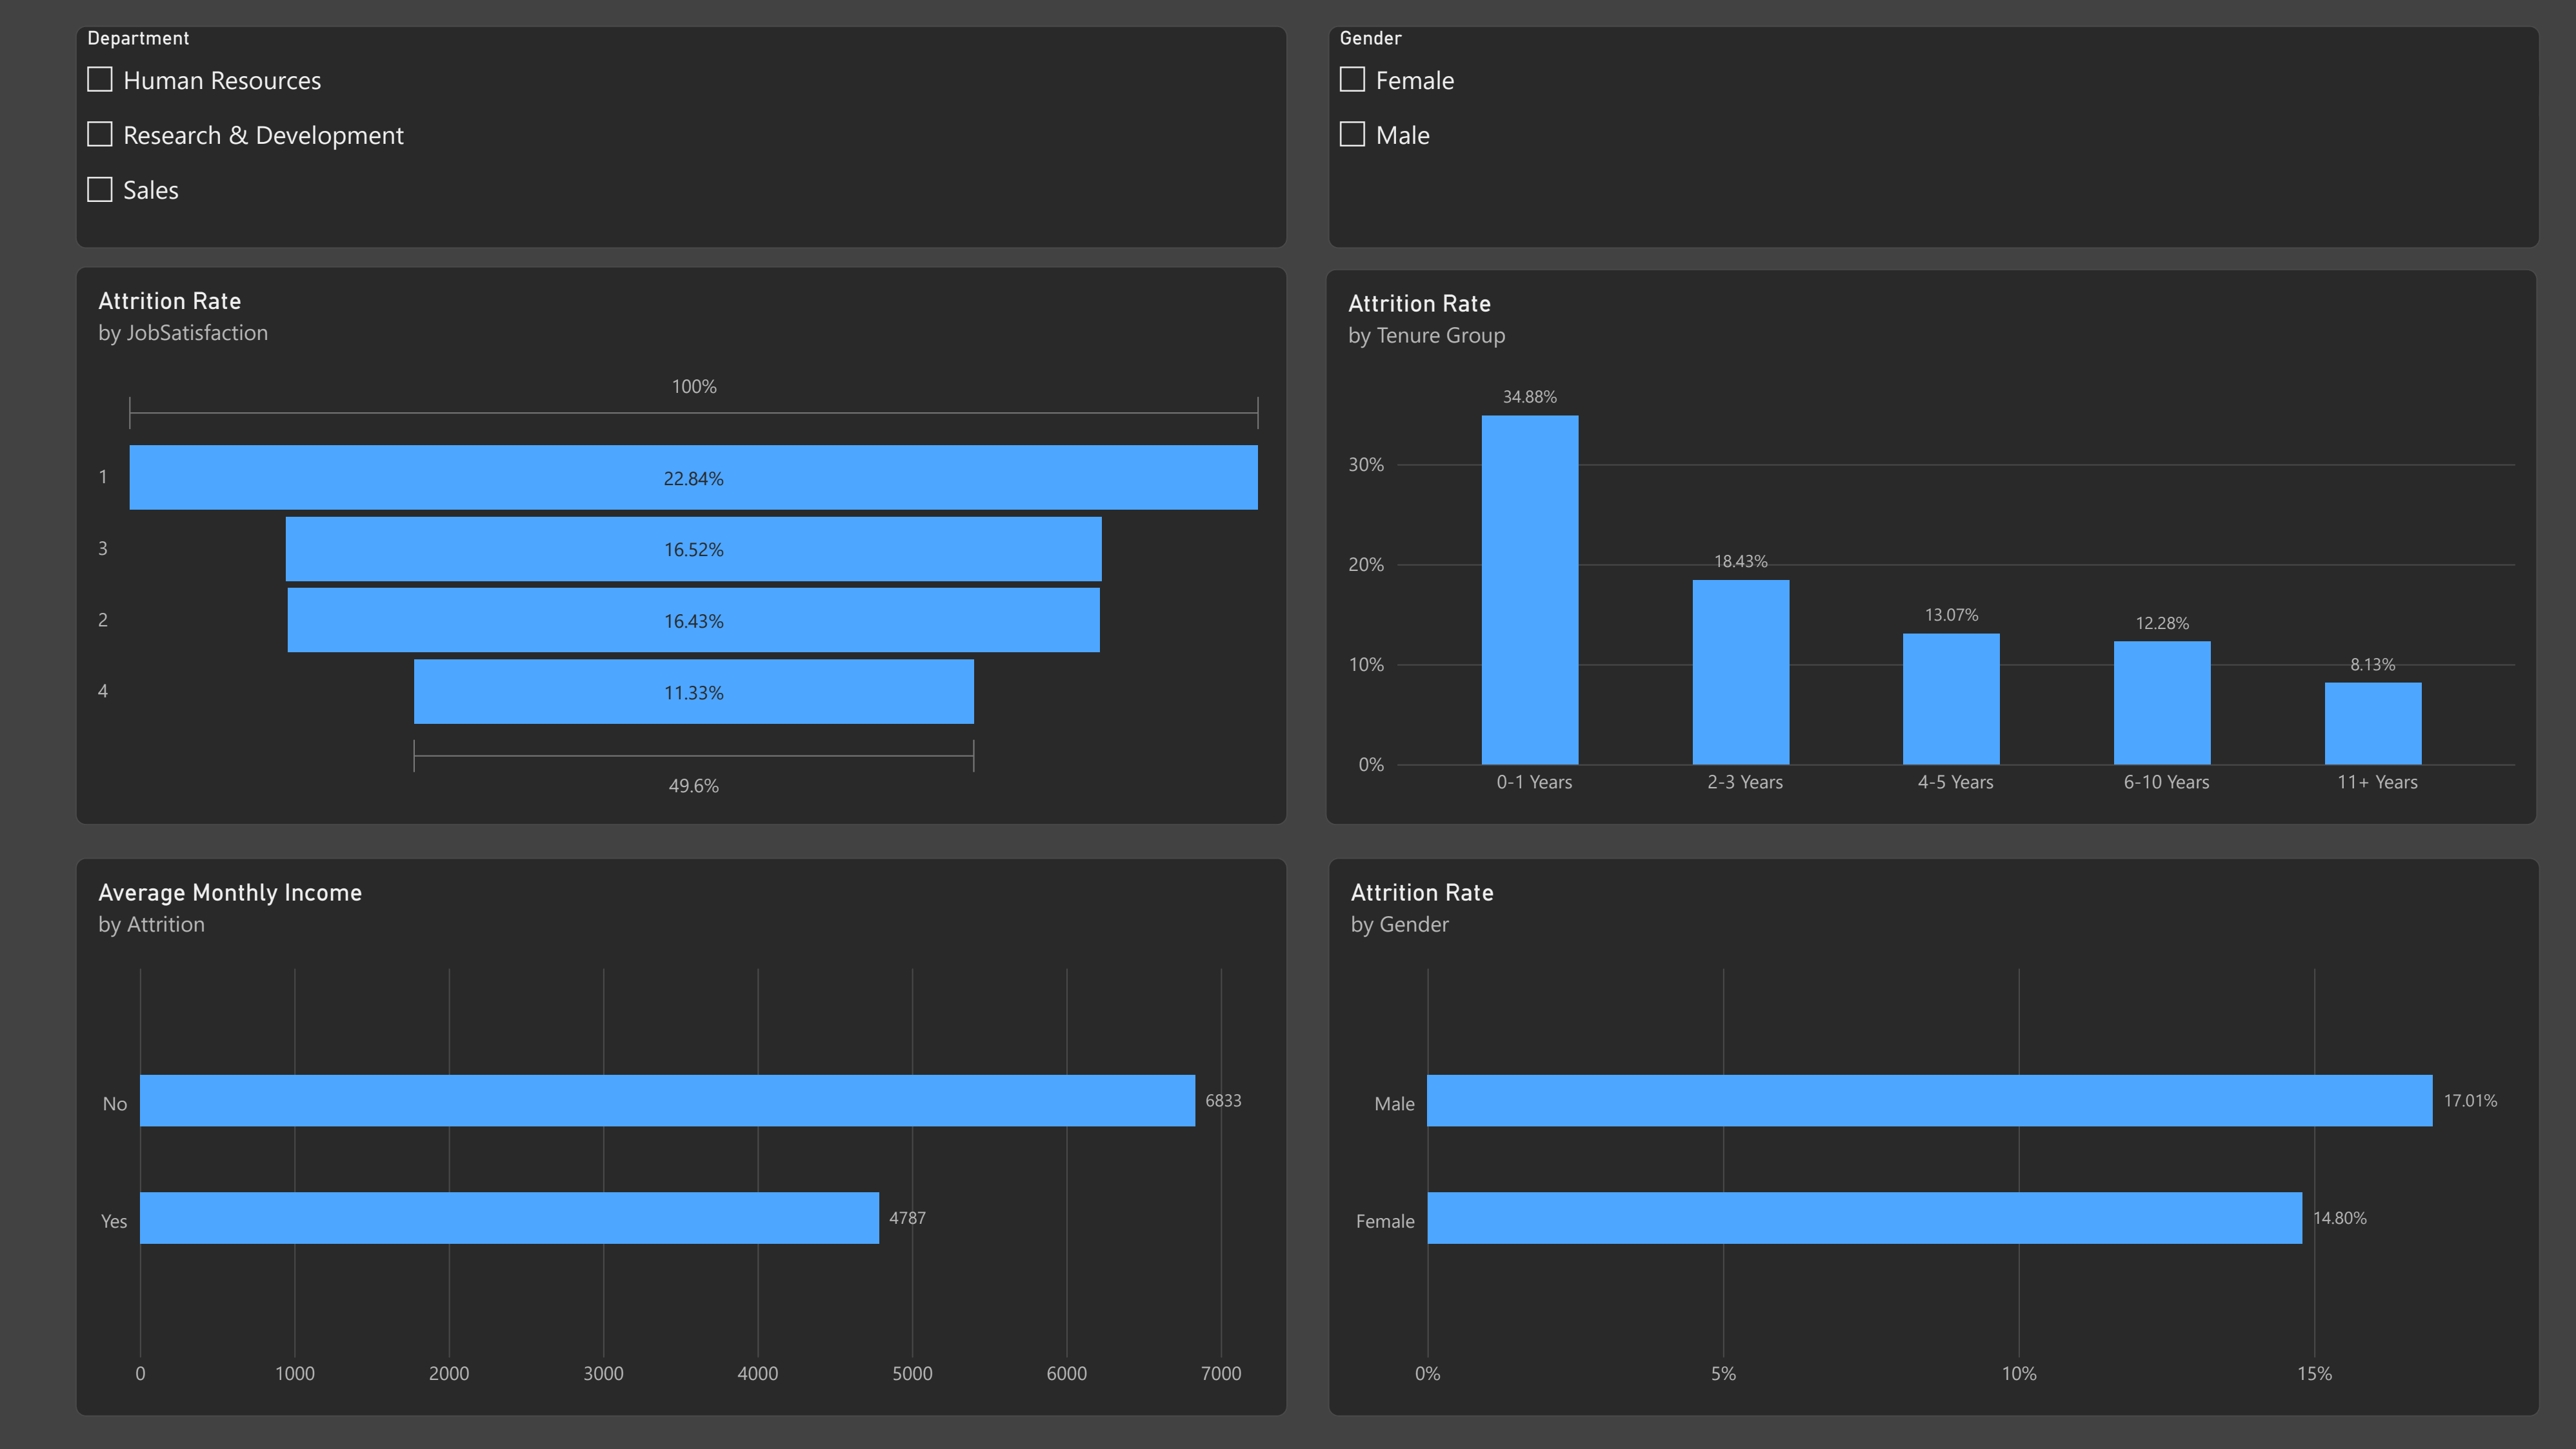

The dashboard page shown, as its layout file describes it:
{"tool":"powerbi","page":{"name":"Employee Retention Analysis","canvas":[1920,1080],"ordinal":1},"visuals":[{"type":"funnel","fields":{"Category":["hr_cleaned.JobSatisfaction"],"Y":["hr_cleaned.Attrition Rate"]},"box":[58,199.2,902,416],"z":0},{"type":"clusteredColumnChart","fields":{"Category":["hr_cleaned.Tenure Group"],"Y":["hr_cleaned.Attrition Rate"]},"box":[988,201.2,902,414],"z":1000},{"type":"clusteredBarChart","fields":{"Category":["hr_cleaned.Attrition"],"Y":["hr_cleaned.Average Monthly Income"]},"box":[58,639.2,902,416],"z":2000},{"type":"clusteredBarChart","fields":{"Category":["hr_cleaned.Gender"],"Y":["hr_cleaned.Attrition Rate"]},"box":[990,639.2,902,416],"z":3000},{"type":"slicer","fields":{"Values":["hr_cleaned.Department"]},"box":[58,20,902,166],"z":4000},{"type":"slicer","fields":{"Values":["hr_cleaned.Gender"]},"box":[990,20,902,166],"z":5000}]}

Visuals, with their boxes in screenshot pixels (x1, y1, x2, y2), scaled from the page's 1920x1080 canvas onto the 2576x1449 screenshot:
funnel - hr_cleaned.JobSatisfaction x hr_cleaned.Attrition Rate: <region>78, 267, 1288, 825</region>
clusteredColumnChart - hr_cleaned.Tenure Group x hr_cleaned.Attrition Rate: <region>1326, 270, 2536, 825</region>
clusteredBarChart - hr_cleaned.Attrition x hr_cleaned.Average Monthly Income: <region>78, 857, 1288, 1415</region>
clusteredBarChart - hr_cleaned.Gender x hr_cleaned.Attrition Rate: <region>1328, 857, 2539, 1415</region>
slicer - hr_cleaned.Department: <region>78, 27, 1288, 250</region>
slicer - hr_cleaned.Gender: <region>1328, 27, 2539, 250</region>
